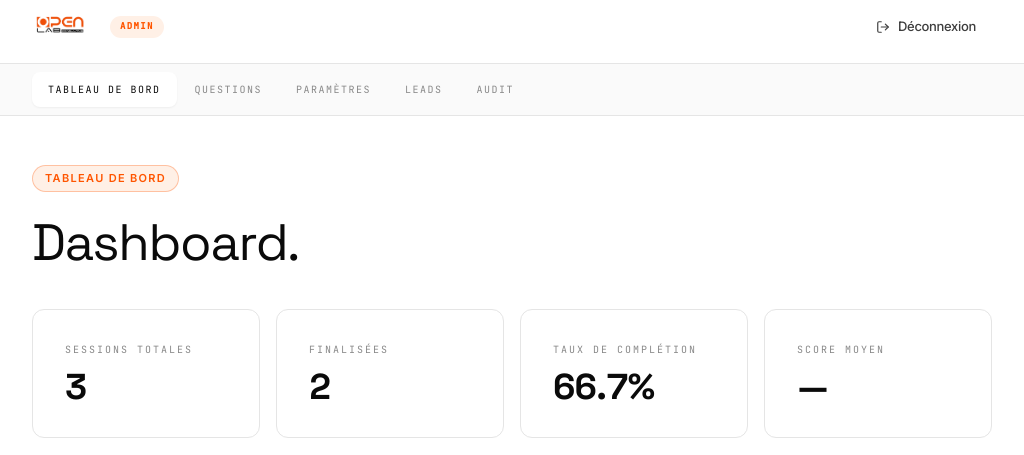
it: AdminDashboard — Questions tab › affiche les questions après clic sur l'onglet
Expected: the text "3" is shown, [65,364,87,410]
Click the button "Questions" at (228, 90), box [178,72,278,107]
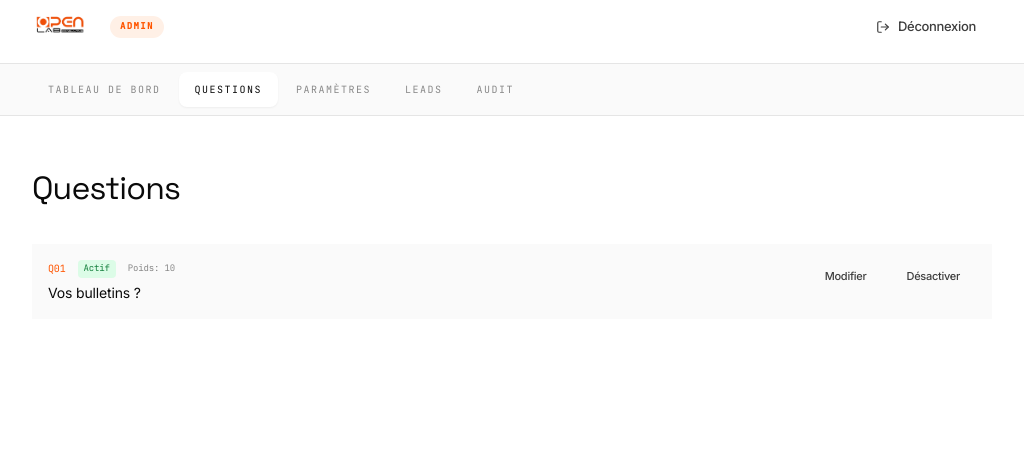
Now the text "Vos bulletins ?" is shown, box [48,284,141,300]
